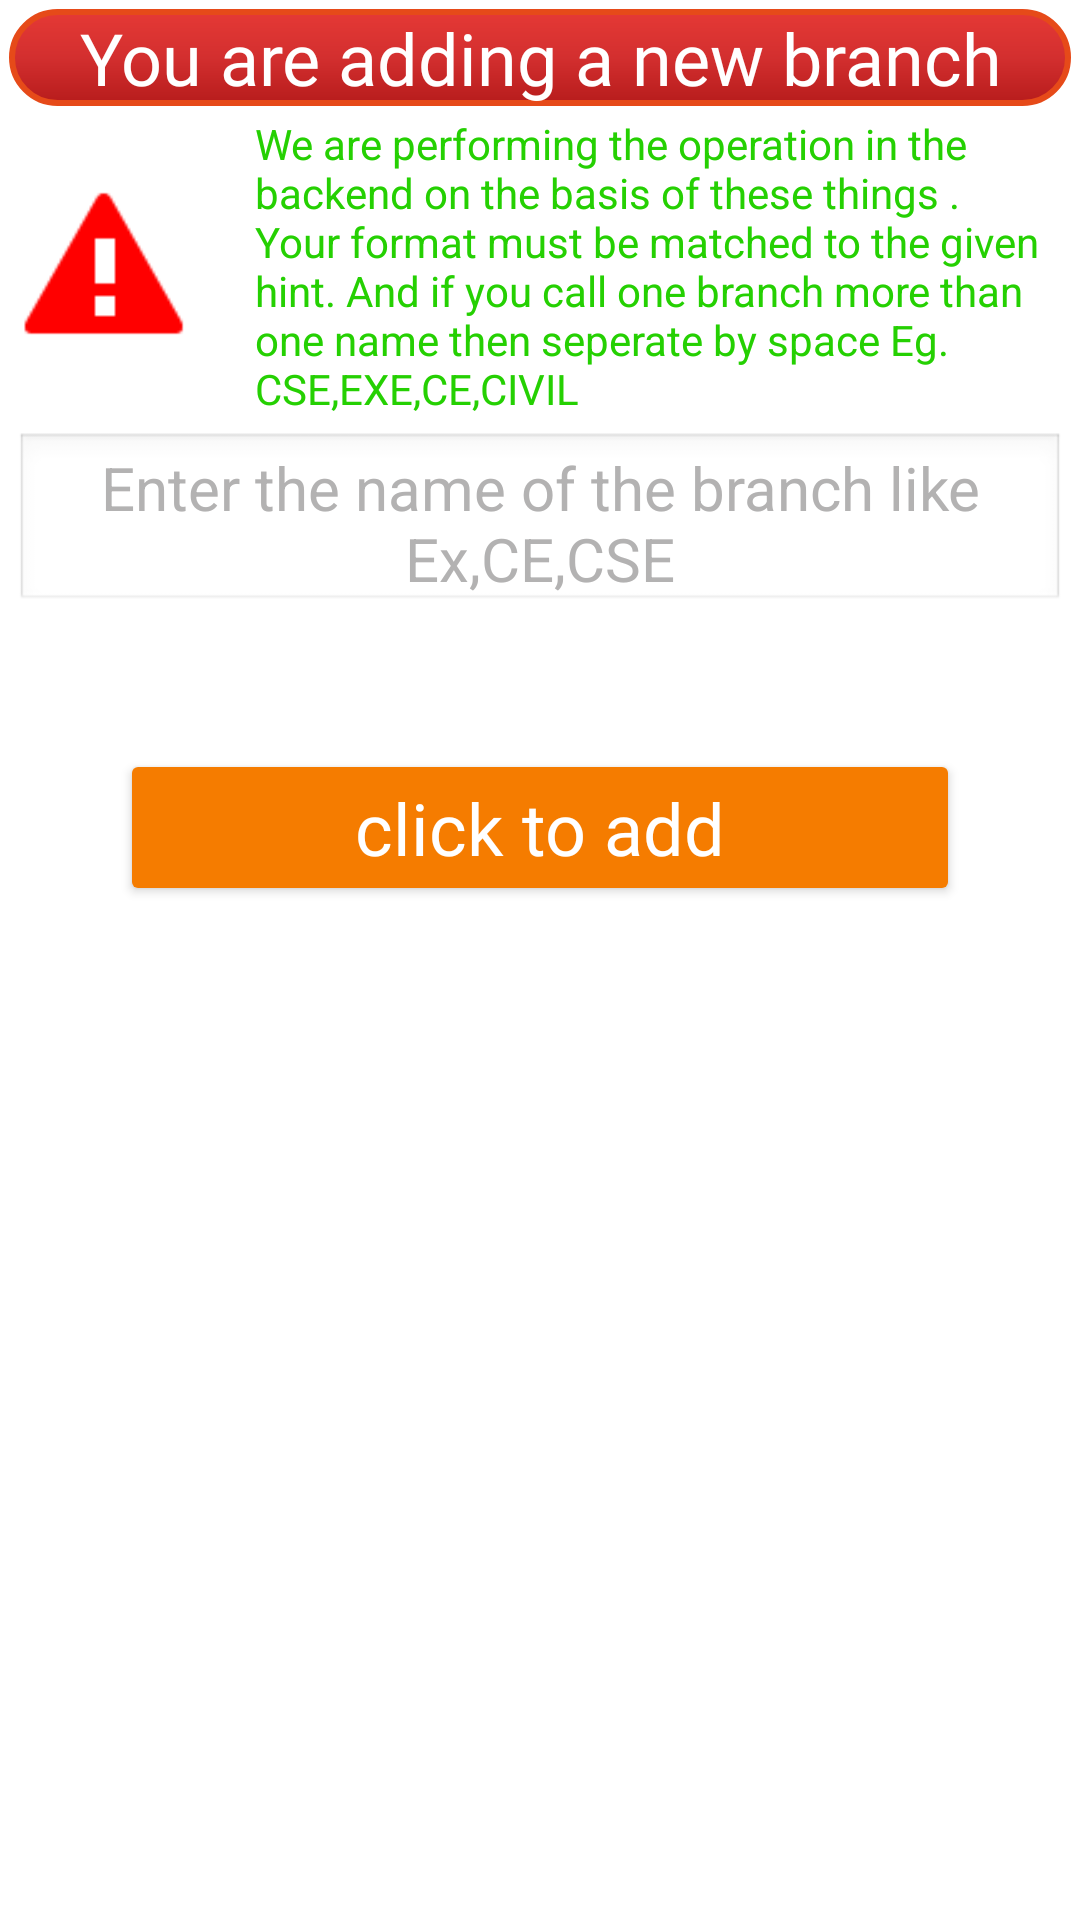

Where to tap for icons on this 1080px×1920px app screen, as (x=x, y=y):
warning: (x=104, y=263)
